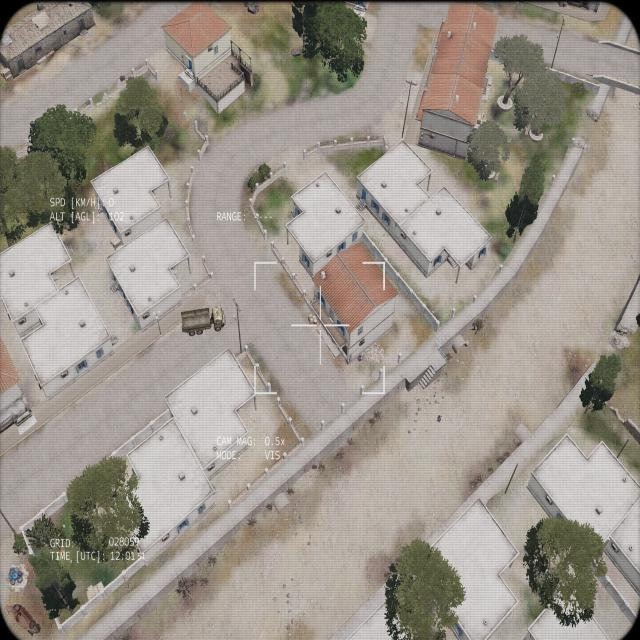truck: (179, 304, 225, 336)
